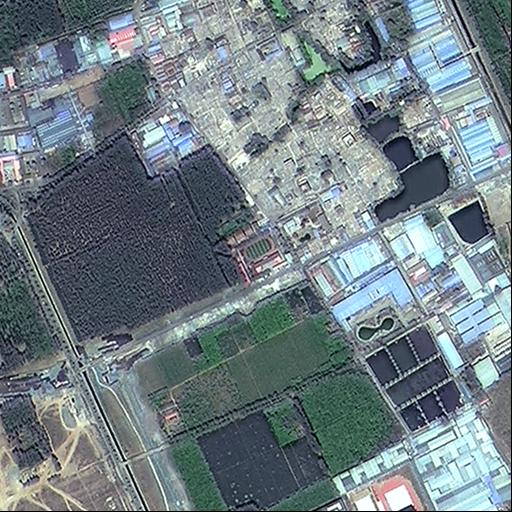school: (235, 227, 294, 284)
